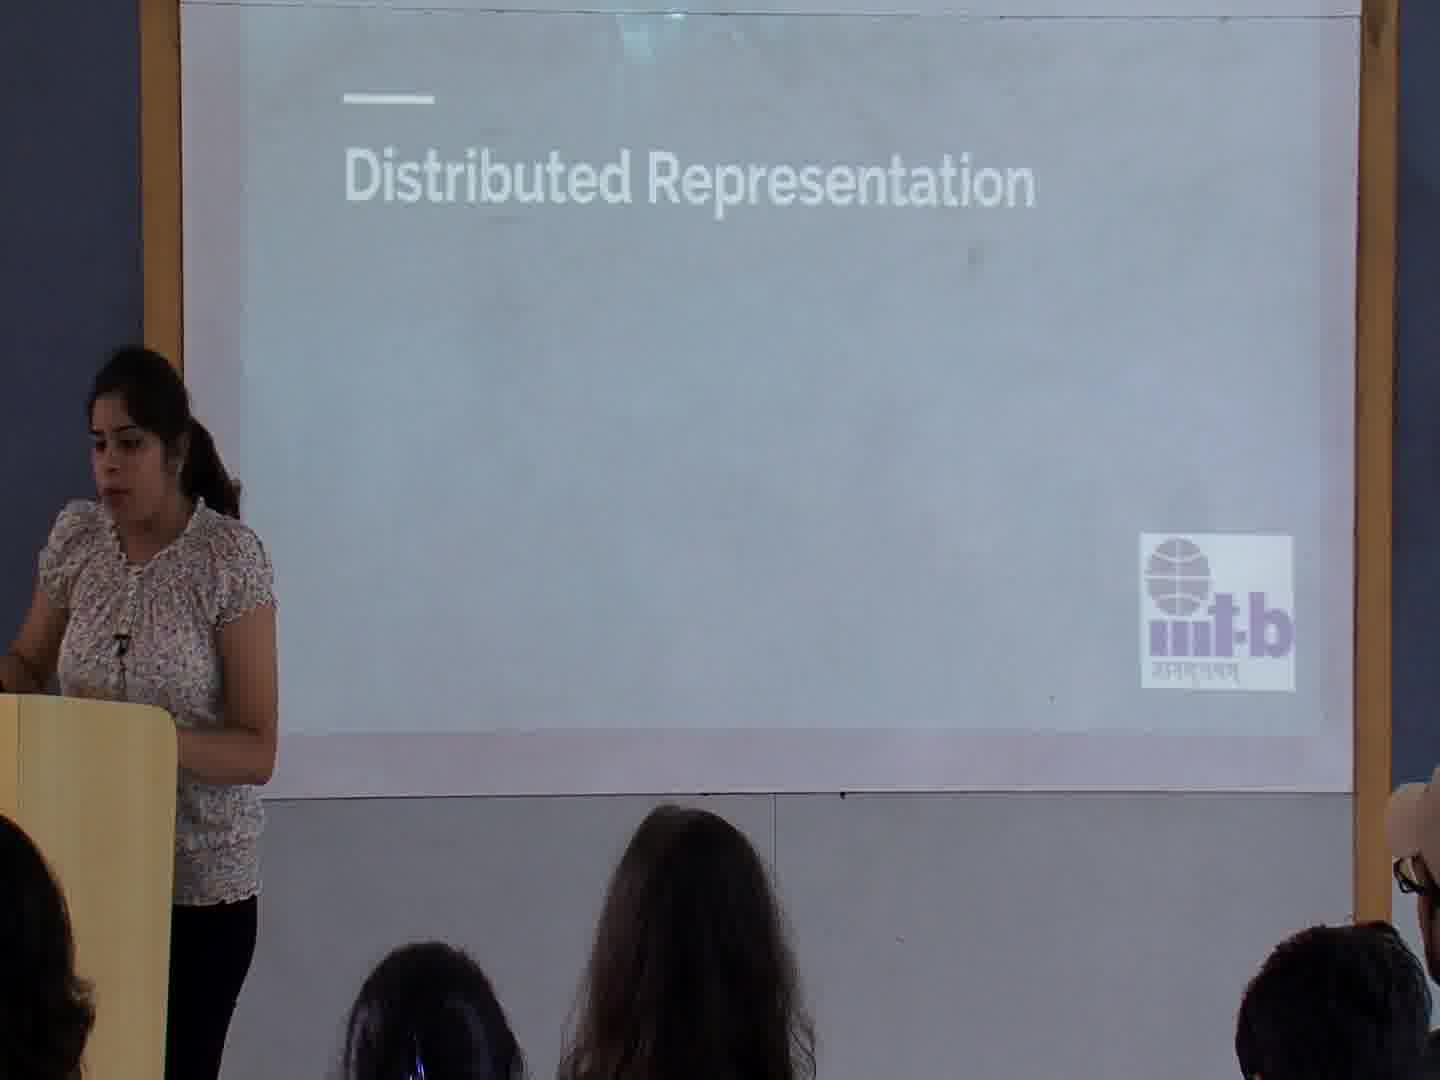slide: (239, 1, 1321, 736)
